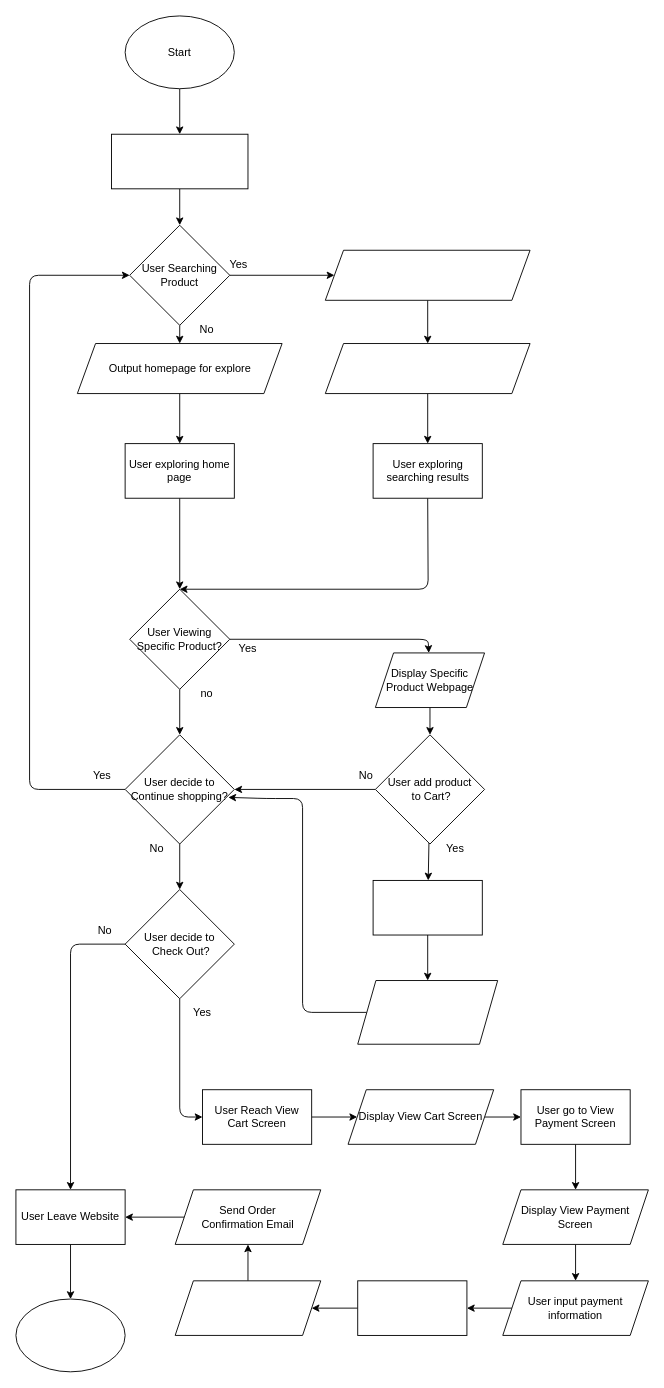
This 664x1388 diagram has some shape labels left out. Each missing label, with the centre of its shape:
"Add Item to User's cart" goes at pixel 427 907.
"Display Added to Cart Confirmation" goes at pixel 427 1012.
"Display Order Comfirmation Screen" goes at pixel 247 1307.
"End" goes at pixel 70 1335.
"Output search result to user" goes at pixel 427 368.
"Process Order and Confirmation" goes at pixel 412 1307.
"User Enter Search Input" goes at pixel 427 274.
"User Entered Website" goes at pixel 179 161.
